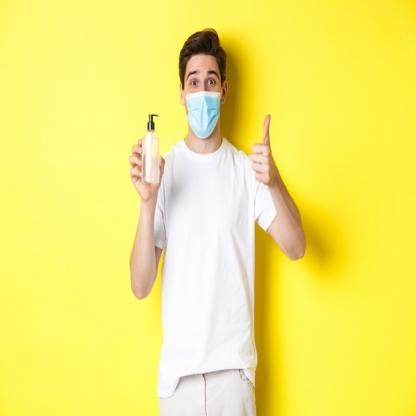thumb_up: (249, 111, 278, 190)
